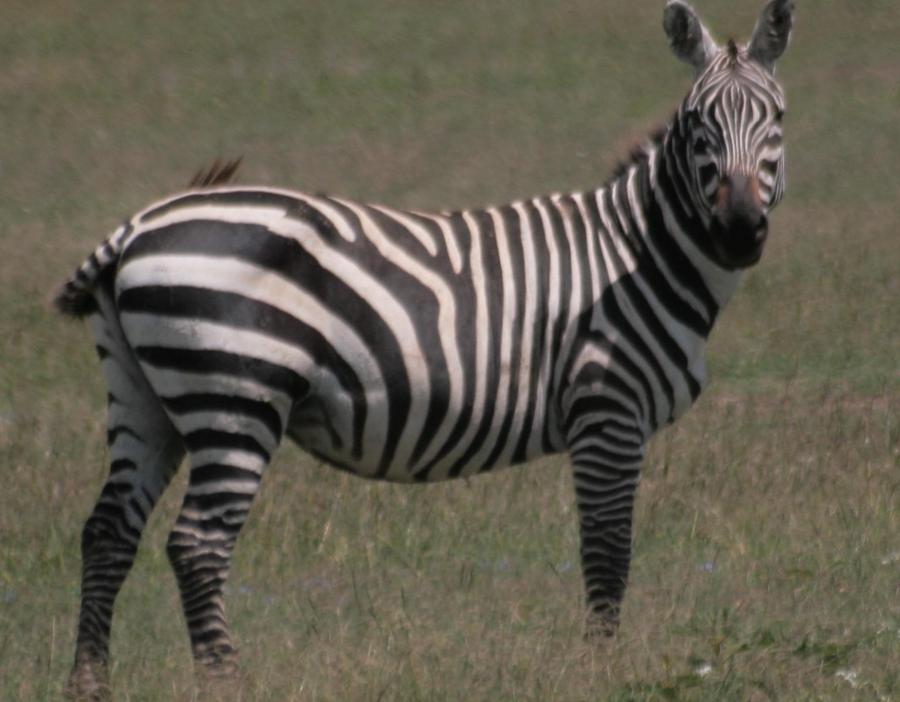zebra_plains: (125, 137, 702, 506)
